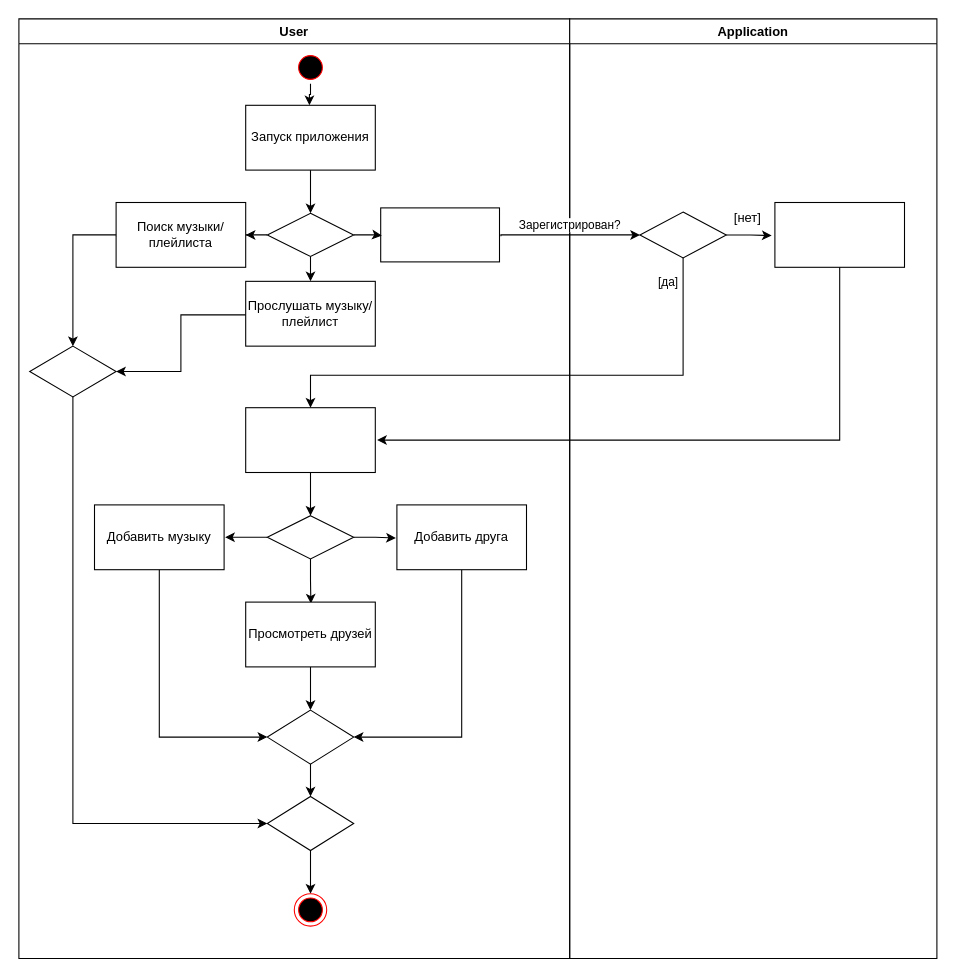
Image size: 956x977. Some labels were removed from this diagram. The shapes that lost their labels are listed below. From the top down, each one's centre as x and y in pixels, then its label:
At (x=440, y=234): "Войти в аккаунт".
At (x=839, y=234): "Регистрация".
At (x=310, y=440): "Вход в аккаунт".
